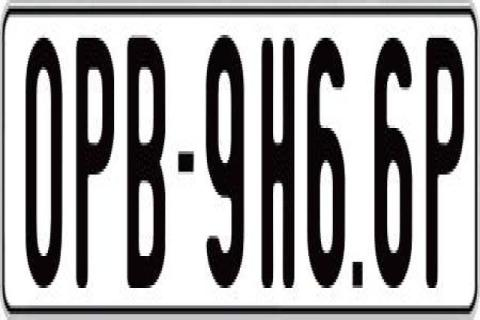0: (22, 29, 66, 294), (205, 35, 248, 303), (306, 29, 346, 288), (372, 35, 410, 285)
B: (126, 35, 166, 303)
H: (260, 35, 298, 285)
P: (74, 29, 114, 279), (422, 32, 459, 294)
